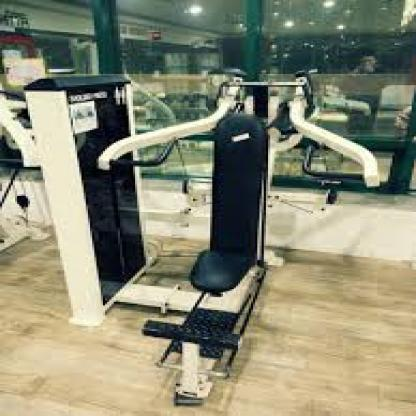shoulder press machine: (24, 69, 391, 404)
